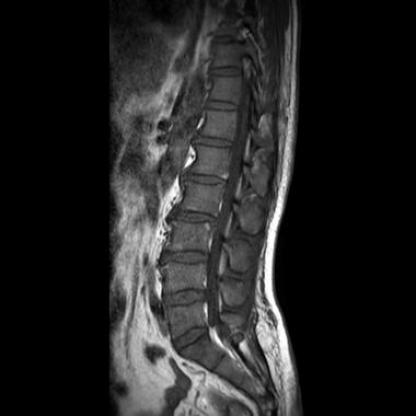Annular Tearrotation: (160, 285, 208, 310)
Disc Bulgerotation: (160, 286, 208, 308), (172, 205, 216, 227), (164, 246, 210, 267)
Disc Protrusionrotation: (182, 170, 230, 190)
